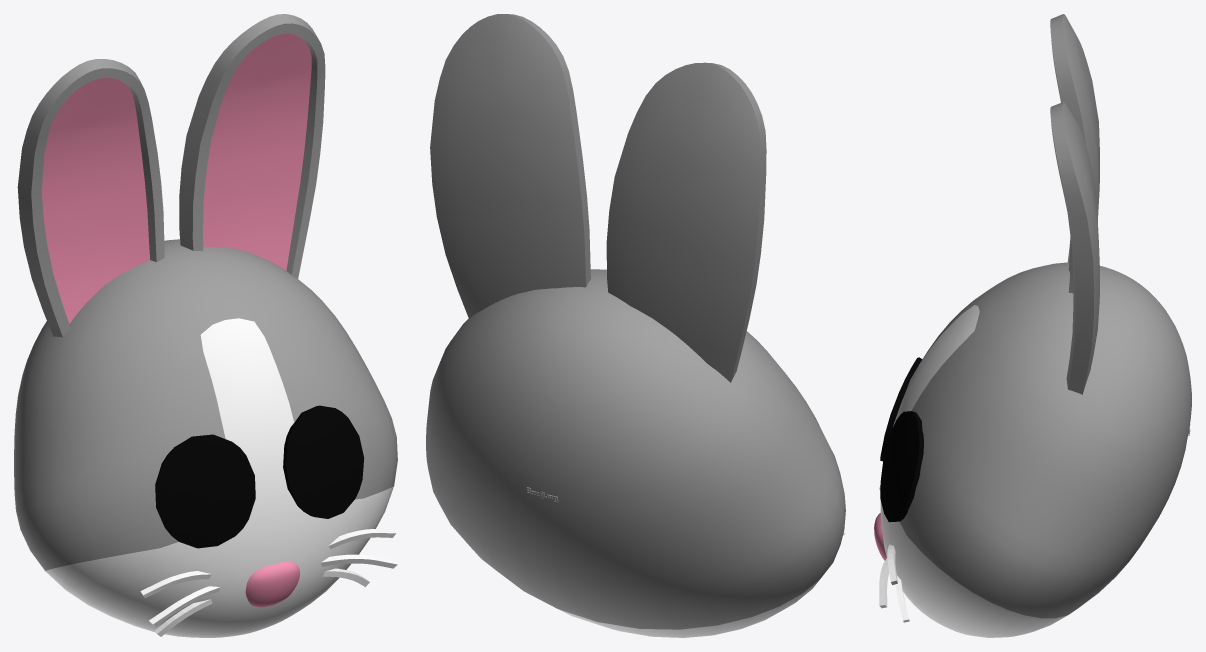
Rendered from rabbit_face.glb.
3 renders of one model, left to right at view 1: azimuth 30°, elevation 25°; view 2: azimuth 150°, elevation 25°; view 3: azimuth 270°, elevation 25°, orthographic. The views are drawn at different scales.
Parts seen in each view (by area): view 1: Sphere.381, Cylinder.362, Circle.1918, Cube.6247, Cube.6246; view 2: Sphere.381, Cylinder.362; view 3: Sphere.381, Cylinder.362, Circle.1918, Cube.6247.
Boxes of the visible parts, x1,y1,x2,y2 form: Sphere.381: (14,239,397,637); Cylinder.362: (17,14,325,337); Circle.1918: (155,405,364,548); Cube.6247: (140,529,397,636); Cube.6246: (245,561,299,607); Sphere.381: (426,269,845,637); Cylinder.362: (430,14,766,382); Sphere.381: (880,262,1191,637); Cylinder.362: (1050,14,1099,394); Circle.1918: (880,357,923,522); Cube.6247: (879,487,909,622).
Bounding box in the file's own units: 1.52 × 2.26 × 1.18.
1 material, 1 textured.
